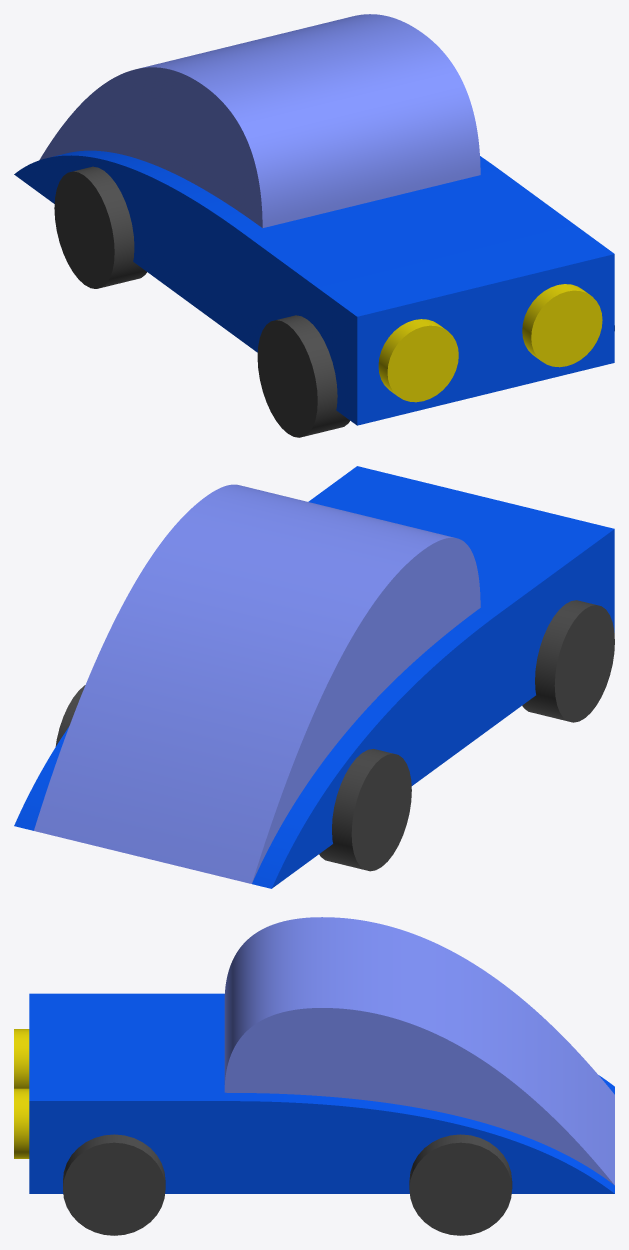
File: SlopeCar.glb
The picture shows the model from 3 angles, top to bottom: view 1: azimuth 30°, elevation 25°; view 2: azimuth 150°, elevation 25°; view 3: azimuth 270°, elevation 25°; orthographic projection. The views are drawn at different scales.
Parts seen in each view (by area): view 1: _SlopeCar; view 2: _SlopeCar; view 3: _SlopeCar.
Boxes of the visible parts, x1,y1,x2,y2 form: _SlopeCar: (14,14,614,437); _SlopeCar: (14,466,614,888); _SlopeCar: (14,917,614,1235).
Size of the model in its own units: 3 by 2.39 by 6.16.
